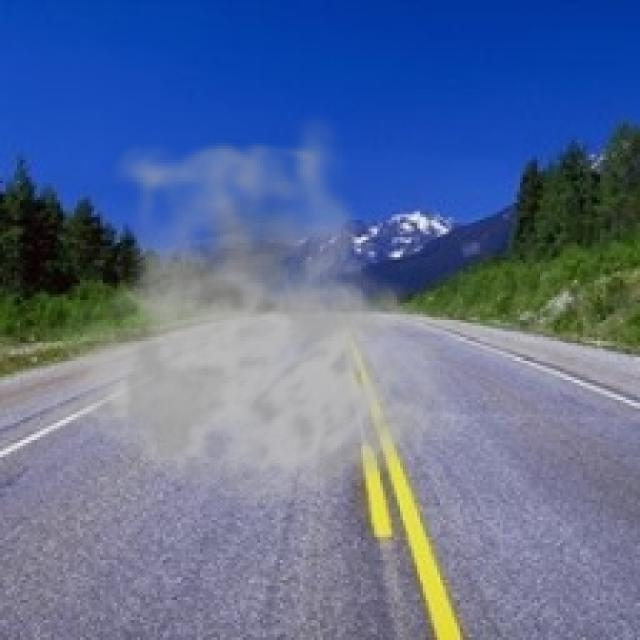smoke: (37, 106, 463, 508)
